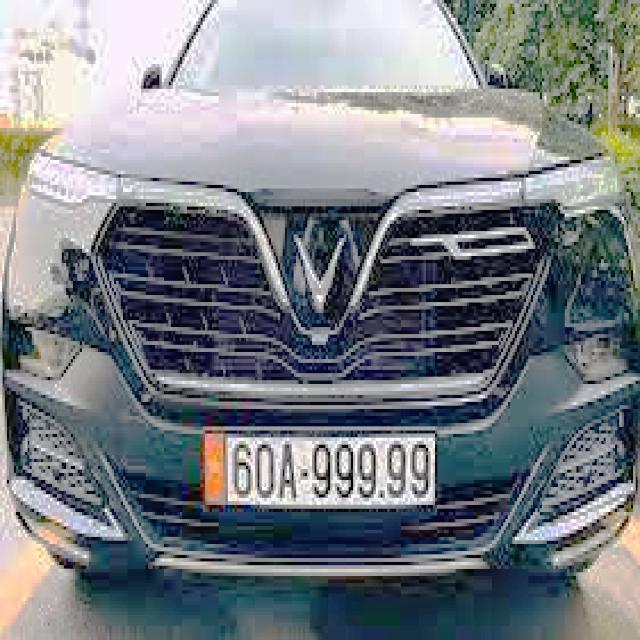license_plate: (206, 426, 438, 502)
